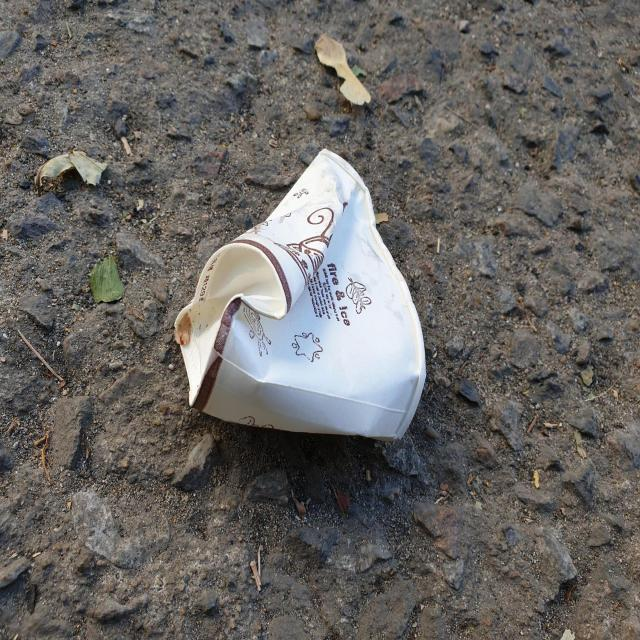paperpack: (175, 149, 426, 441)
